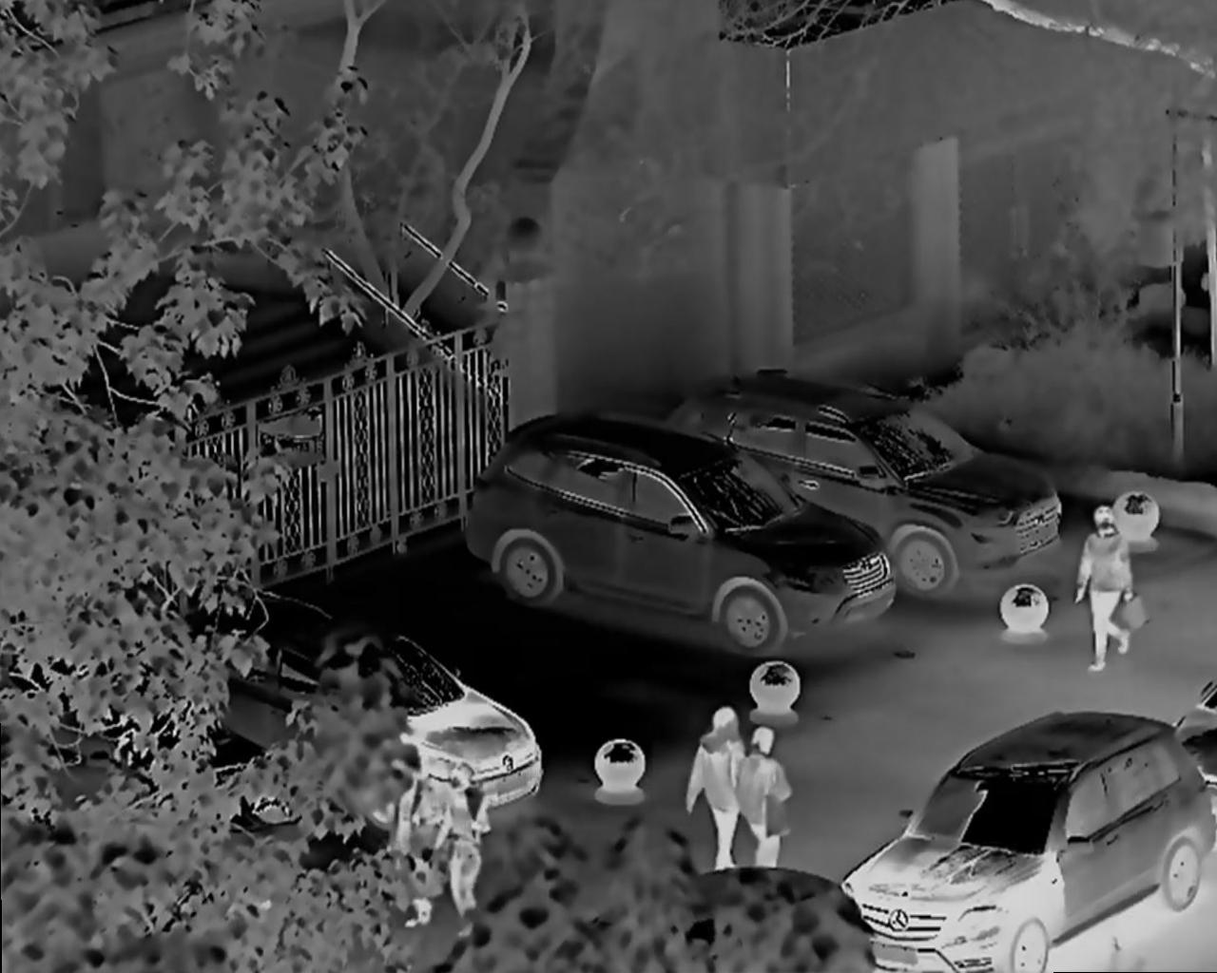person: (1078, 503, 1142, 658), (439, 764, 495, 941), (737, 725, 798, 868), (398, 759, 444, 923), (698, 692, 737, 862)
